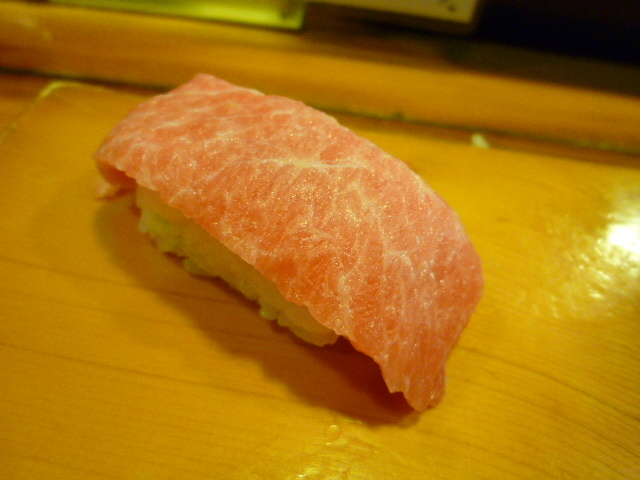medium_fatty_tuna: (98, 70, 485, 413)
